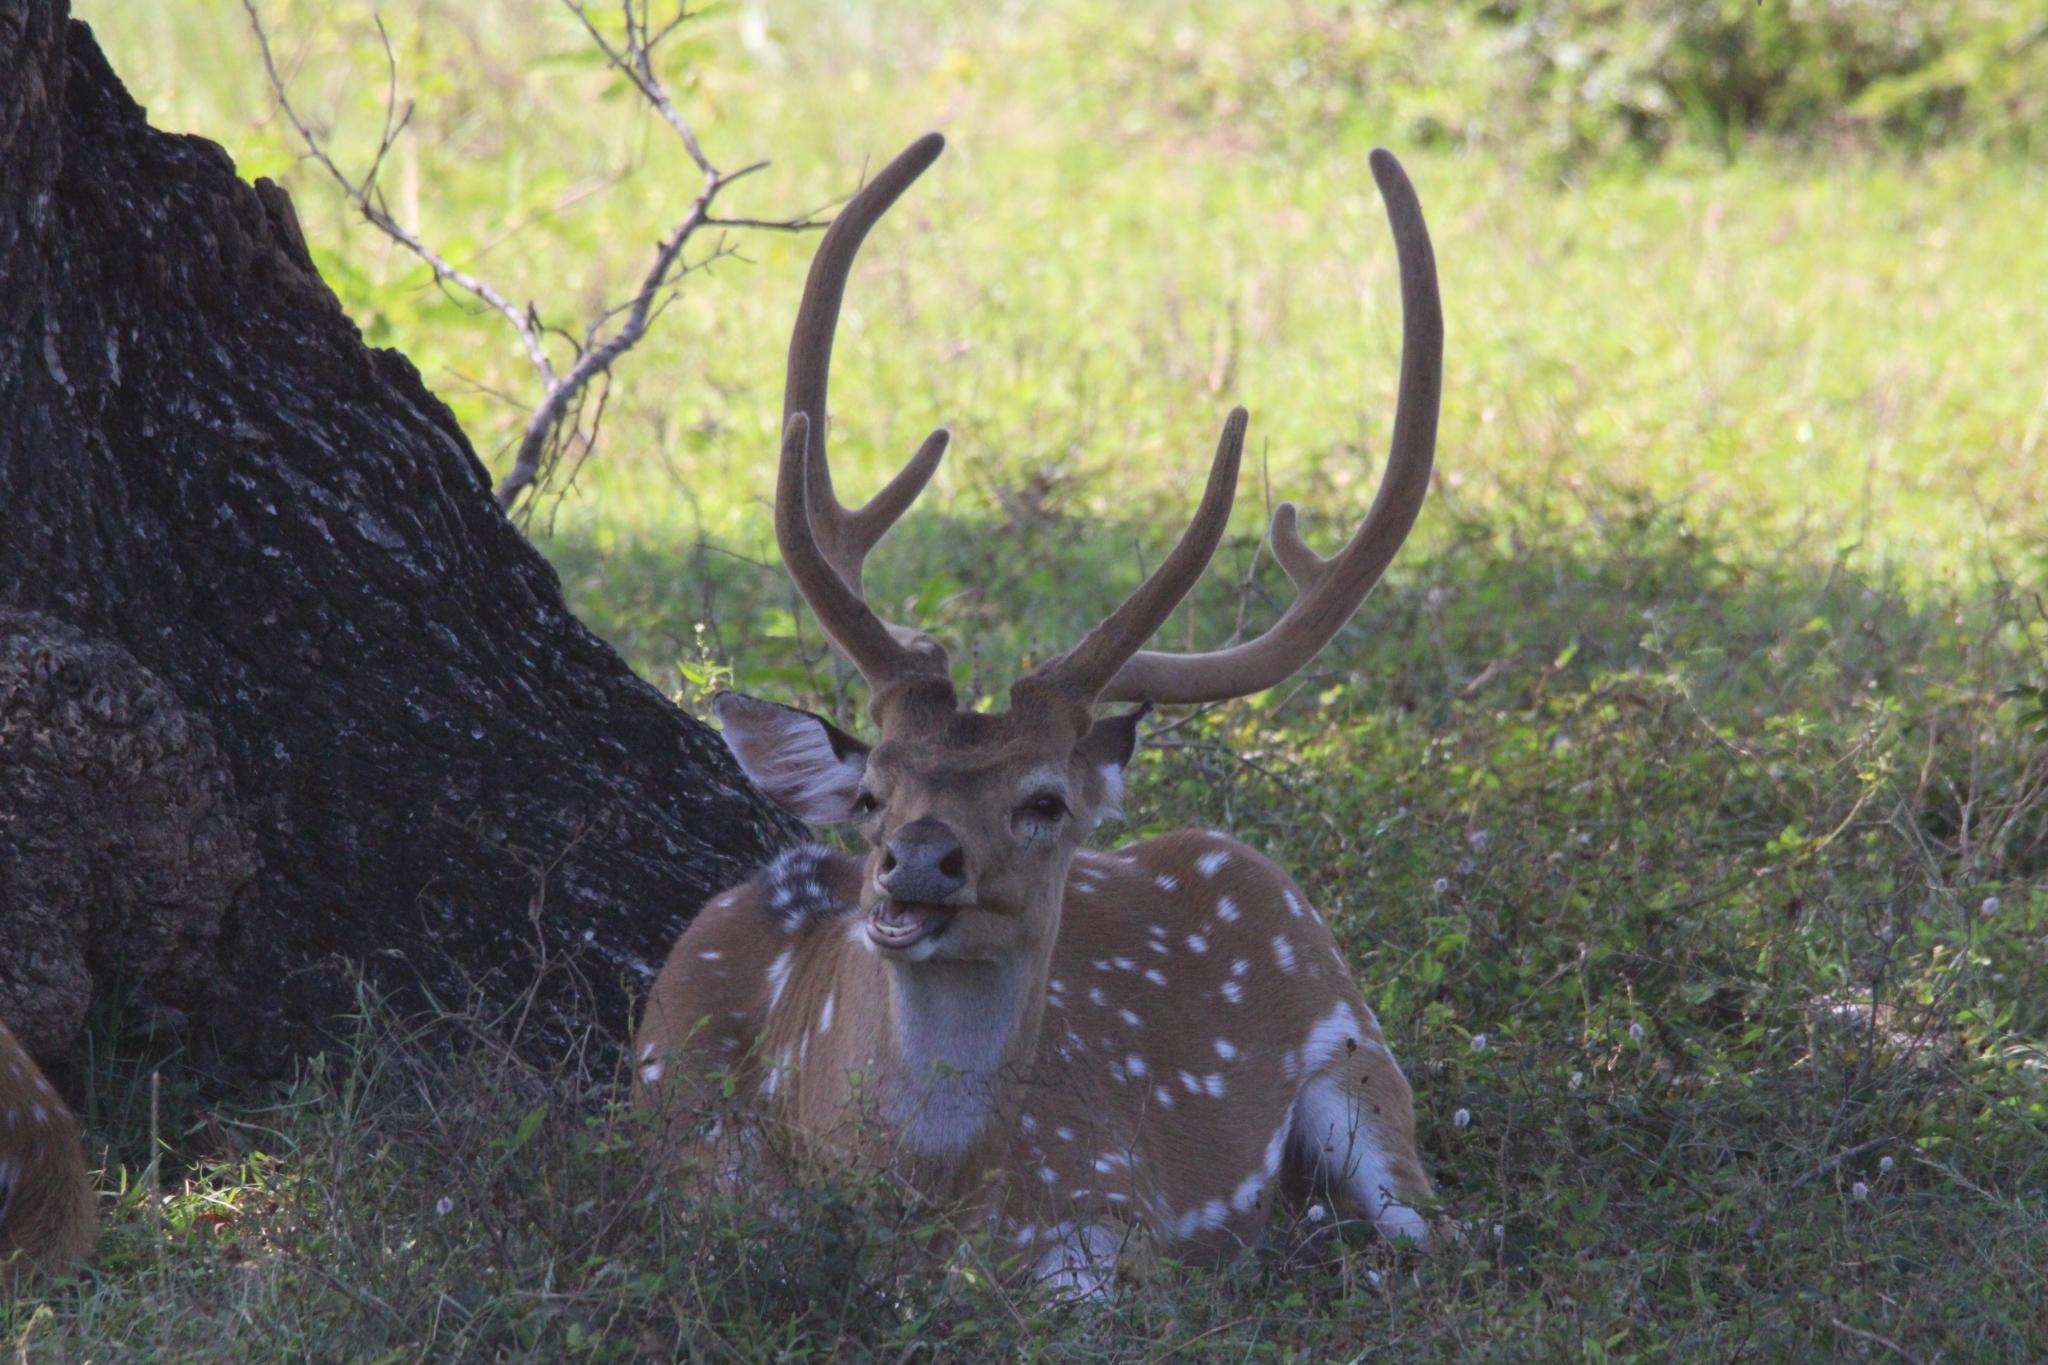Deer: (640, 136, 1443, 1287)
